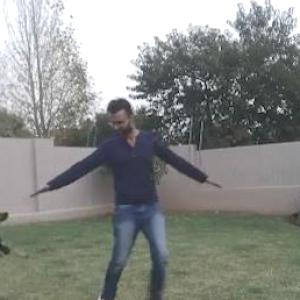land: (33, 104, 216, 298)
